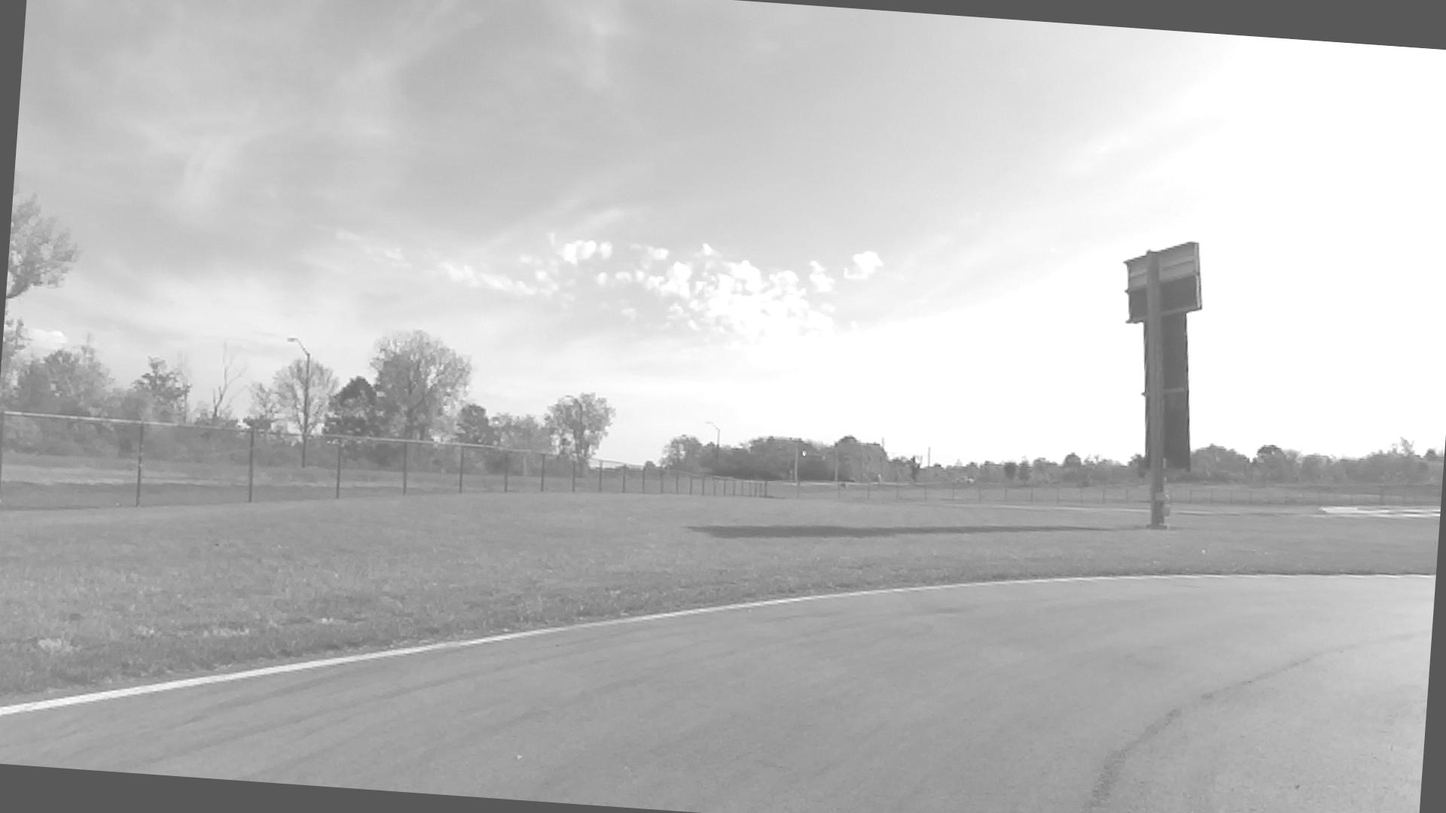white-line: (0, 574, 1324, 717), (1317, 573, 1436, 579)
